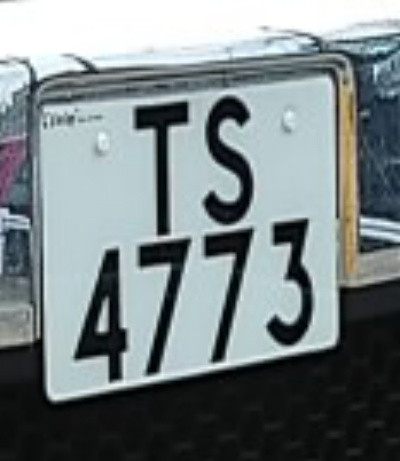3: (259, 207, 326, 354)
4: (66, 238, 138, 388)
7: (195, 221, 264, 365), (131, 232, 198, 379)
S: (192, 85, 269, 231)
T: (113, 89, 200, 244)
